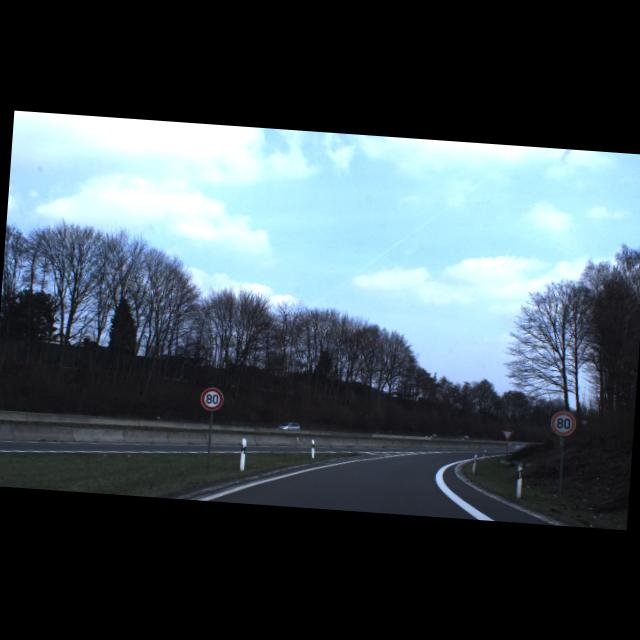other: (500, 429, 512, 442)
prohibitory: (548, 409, 576, 437), (199, 386, 224, 411)
